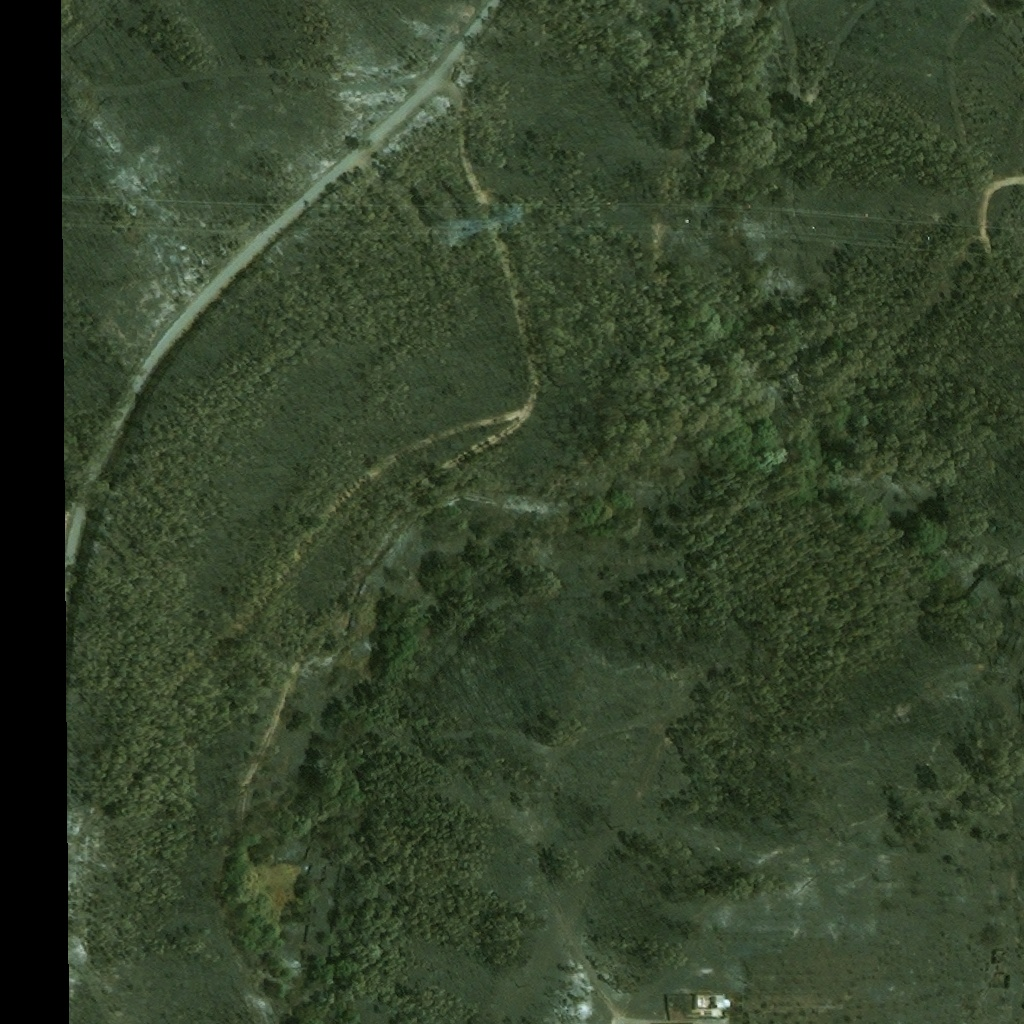3 destroyed: (693, 994, 731, 1017)
